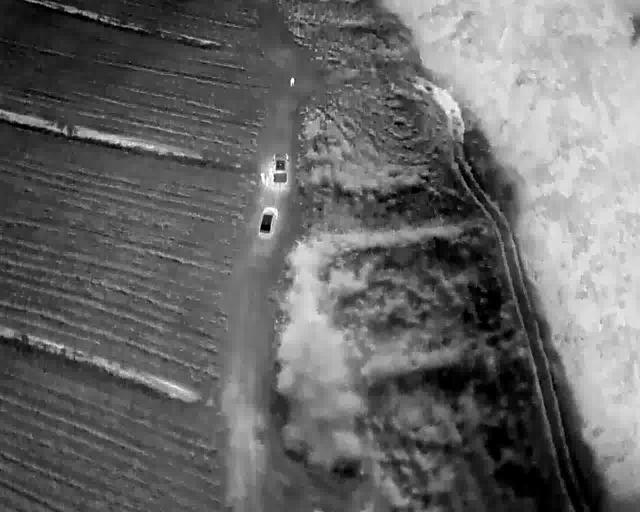car: (271, 151, 289, 184), (260, 205, 276, 237)
person: (267, 166, 274, 179), (259, 171, 266, 184), (263, 175, 269, 190), (289, 75, 295, 88)
